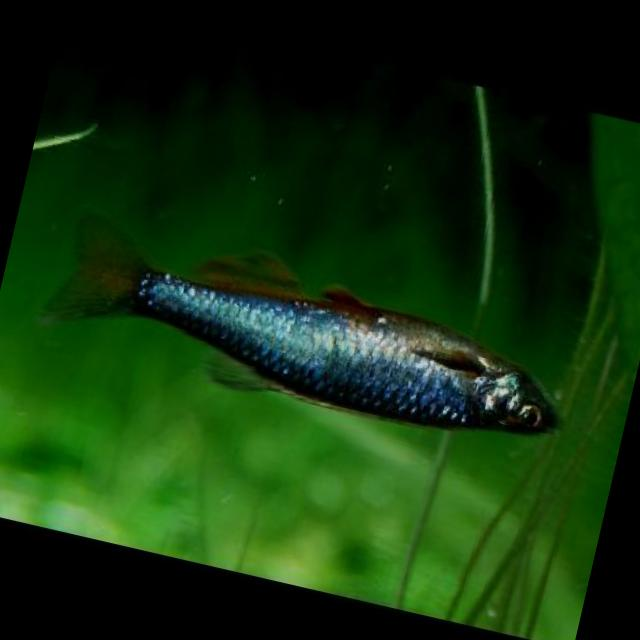ZebraFish: (37, 202, 588, 464)
